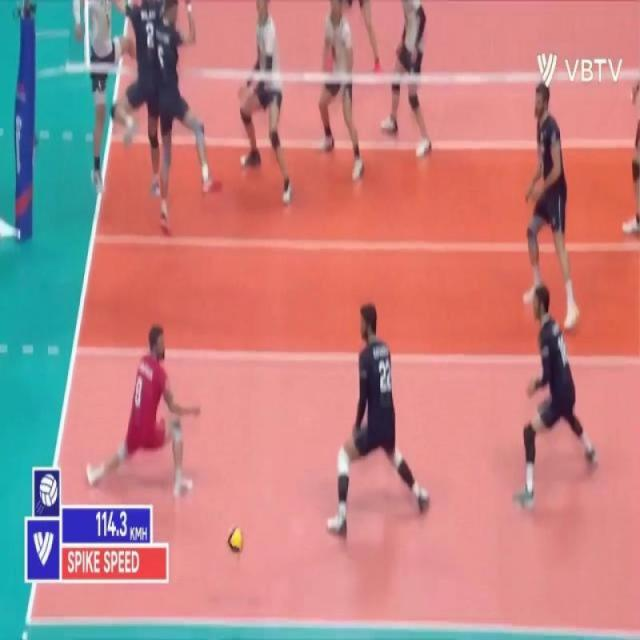volleyball: (226, 523, 244, 555)
